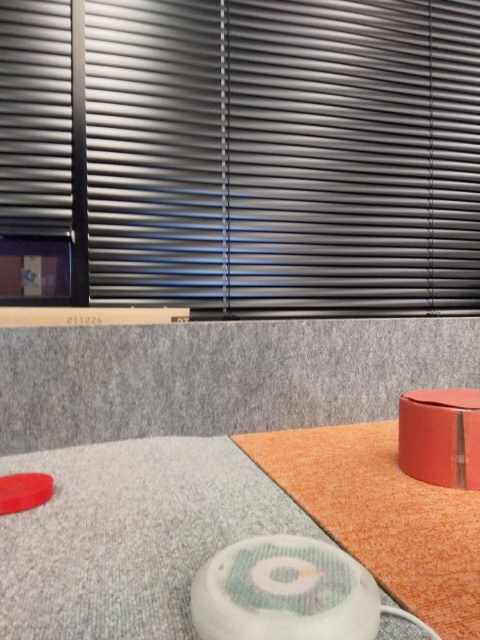o: (187, 530, 383, 640)
